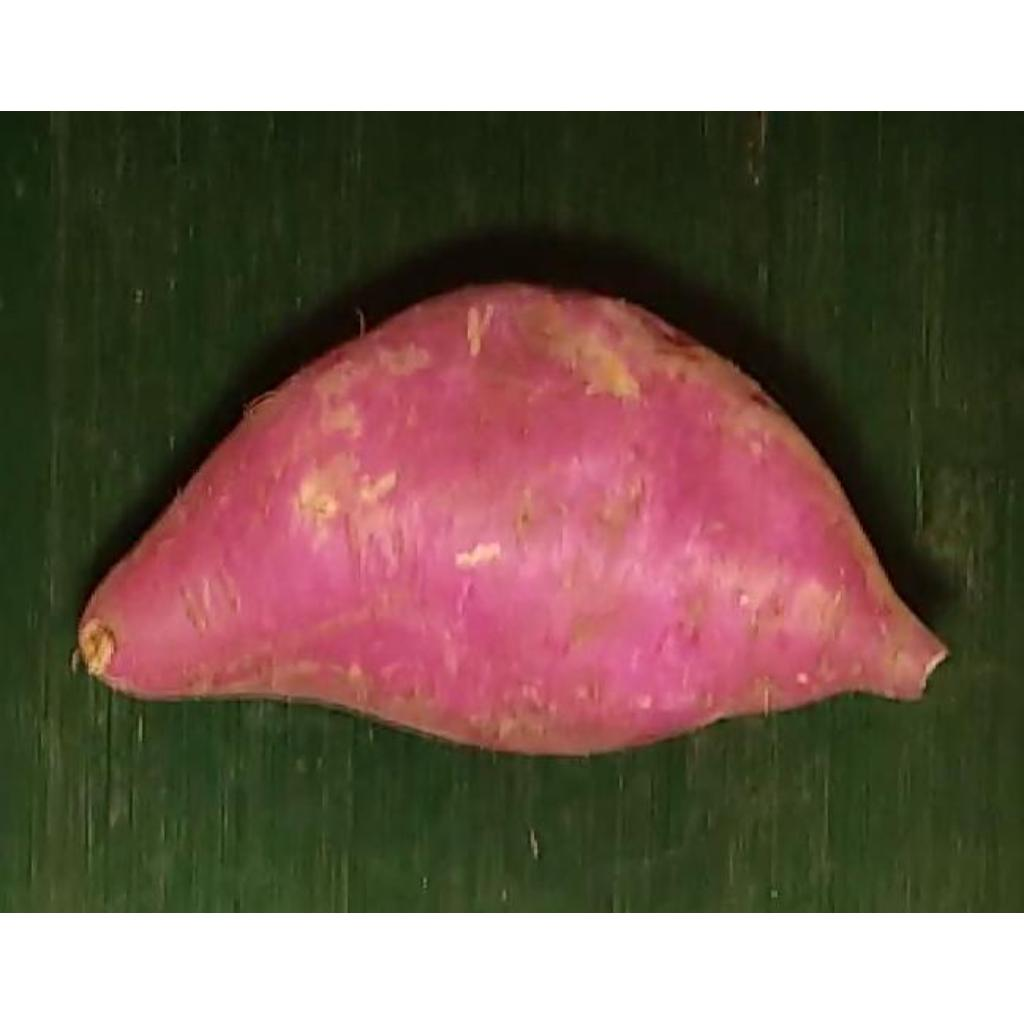Sweet Potato: (76, 290, 948, 759)
